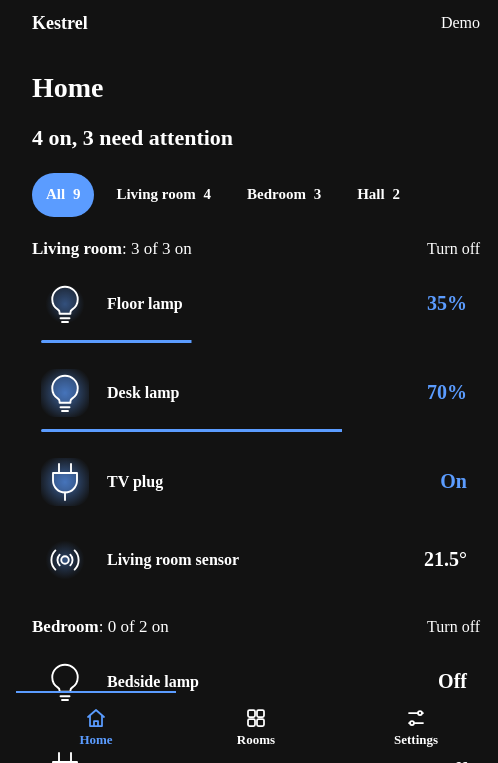
Test: App › Rooms › opens Home filtered to a room from its chevron
The image size is (498, 763).
Click the link "Rooms" at (256, 726), box [237,706,275,747]
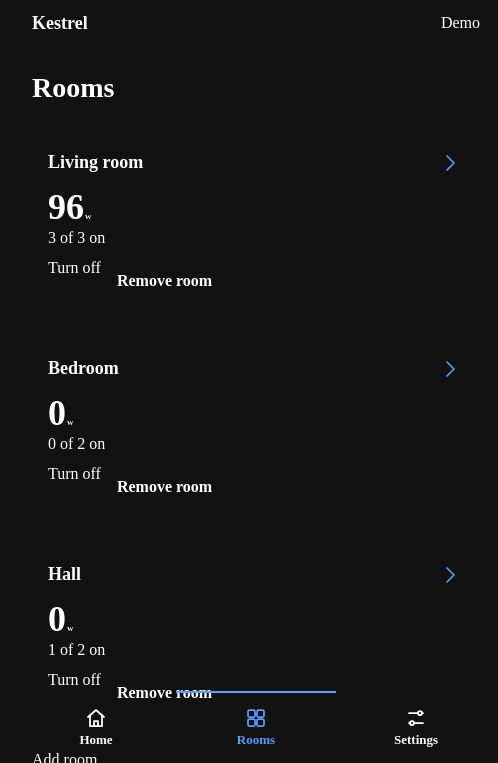
Click the button named "Show devices in Bedroom" at (450, 369), box [428,347,472,391]
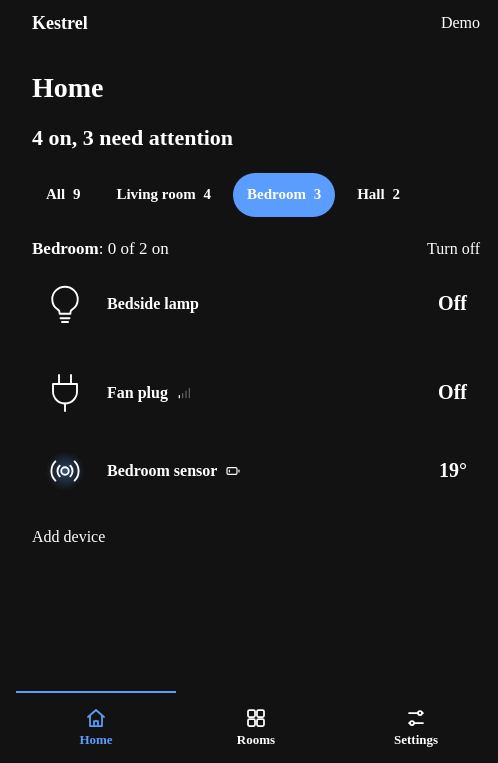
Result: the heading "Home" is shown at [32,72,104,103]
Result: the headings read "Bedroom: 0 of 2 on", in this order at [32,239,169,259]
